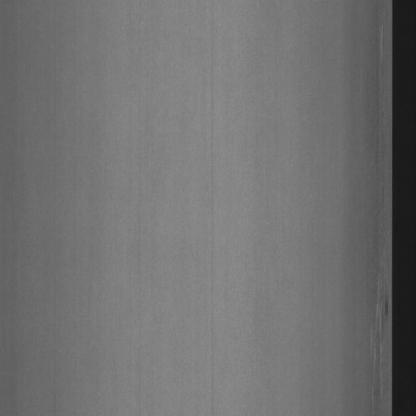silk_spot: (352, 256, 388, 399)
